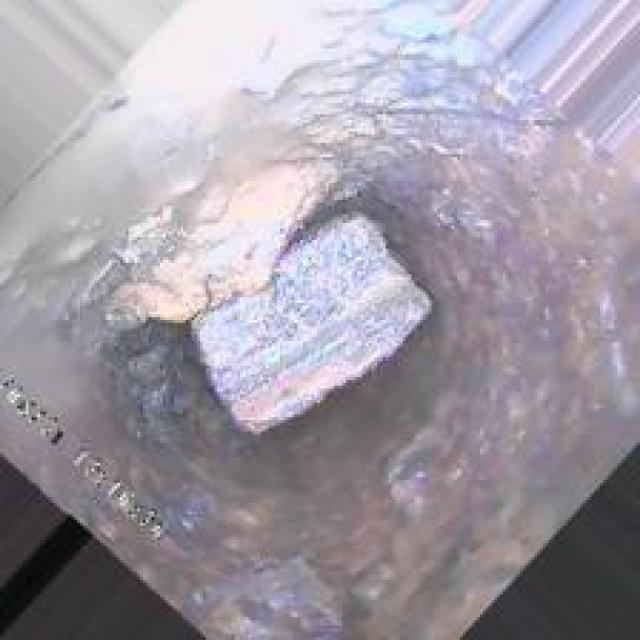stone: (177, 217, 454, 434)
